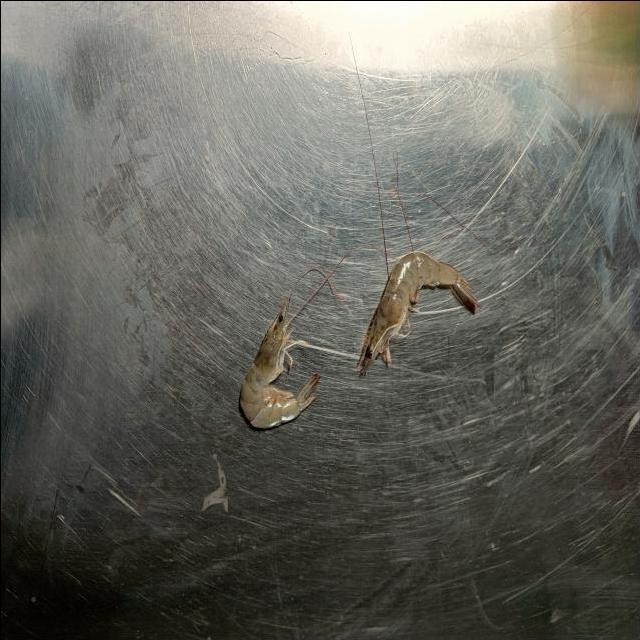shrimp: (356, 251, 480, 375), (240, 300, 320, 428)
